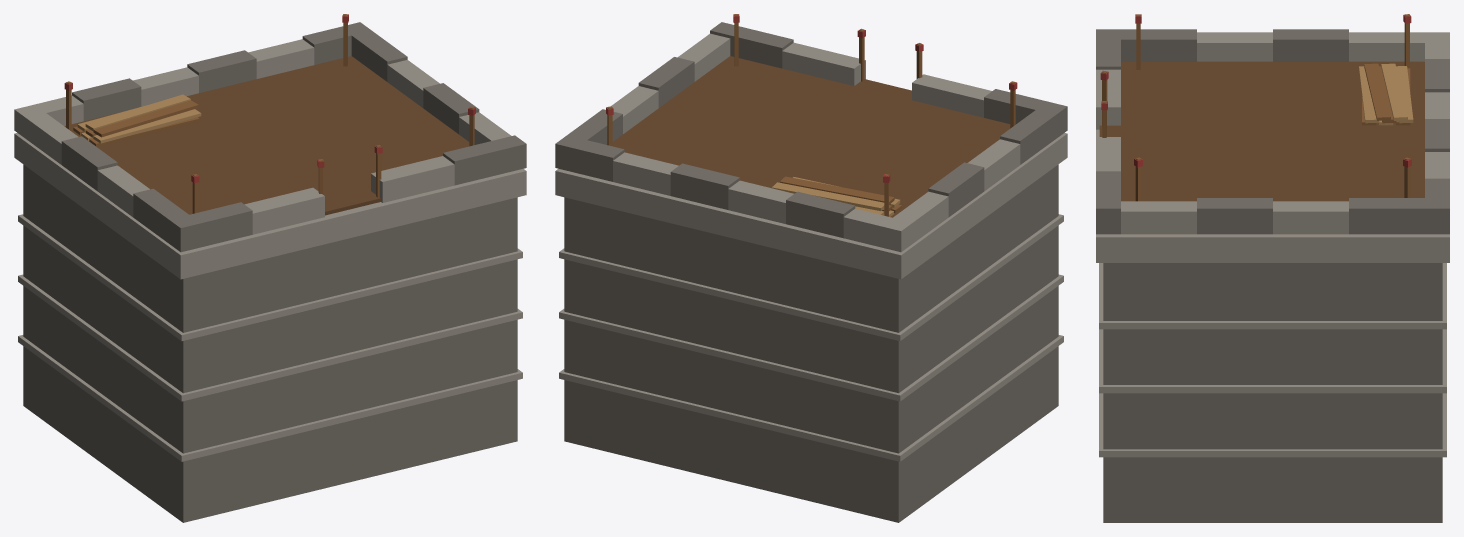
File: site_6x5_1.glb
The picture shows the model from 3 angles, left to right: view 1: azimuth 30°, elevation 25°; view 2: azimuth 150°, elevation 25°; view 3: azimuth 270°, elevation 25°; orthographic projection. The views are drawn at different scales.
Parts seen in each view (by area): view 1: site_6x5_1; view 2: site_6x5_1; view 3: site_6x5_1.
Boxes of the visible parts, bbox=[...] form: site_6x5_1: bbox=[14, 14, 526, 522]; site_6x5_1: bbox=[555, 14, 1067, 522]; site_6x5_1: bbox=[1096, 14, 1449, 522].
Bounding box in the file's own units: 6 × 5.45 × 5.
